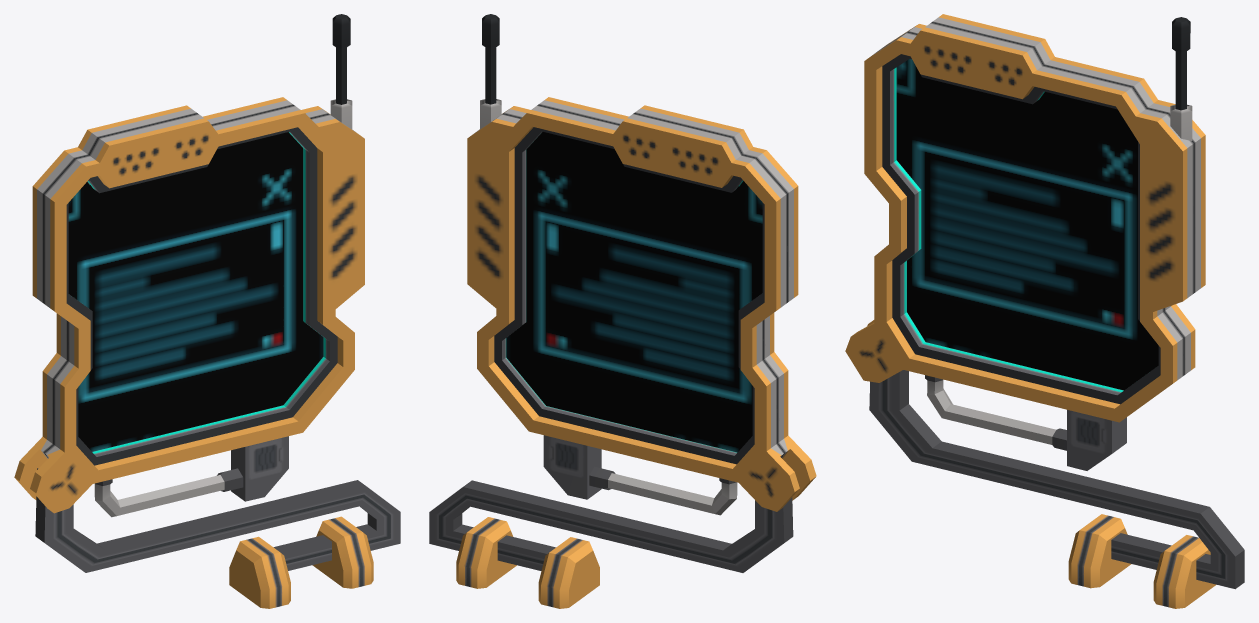
File: SM_Prop_Monitor_01.fbx
The picture shows the model from 3 angles, left to right: view 1: azimuth 30°, elevation 25°; view 2: azimuth 150°, elevation 25°; view 3: azimuth 330°, elevation 25°; orthographic projection. The views are drawn at different scales.
Parts seen in each view (by area): view 1: SM_Prop_Monitor_01; view 2: SM_Prop_Monitor_01; view 3: SM_Prop_Monitor_01.
Part boxes in pixels (x1,y1,x2,y2): SM_Prop_Monitor_01: [14, 14, 400, 608]; SM_Prop_Monitor_01: [429, 14, 816, 608]; SM_Prop_Monitor_01: [845, 14, 1244, 608].
Bounding box in the file's own units: 95.16 × 136 × 16.78.
